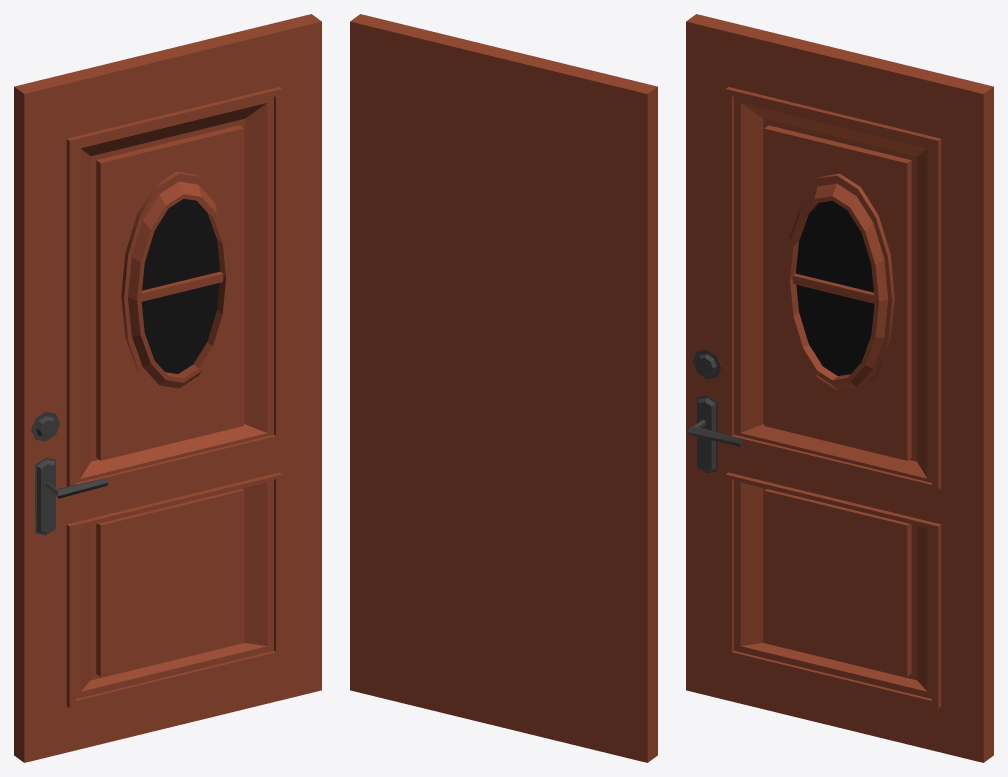
File: SM_door_04.fbx
The picture shows the model from 3 angles, left to right: view 1: azimuth 30°, elevation 25°; view 2: azimuth 150°, elevation 25°; view 3: azimuth 330°, elevation 25°; orthographic projection.
Parts seen in each view (by area): view 1: Box039; view 2: Box039; view 3: Box039.
Part boxes in pixels (bbox=[...]): Box039: bbox=[14, 14, 321, 762]; Box039: bbox=[350, 14, 657, 762]; Box039: bbox=[686, 14, 993, 762].
Size of the model in its own units: 38.42 by 82.53 by 5.99.
